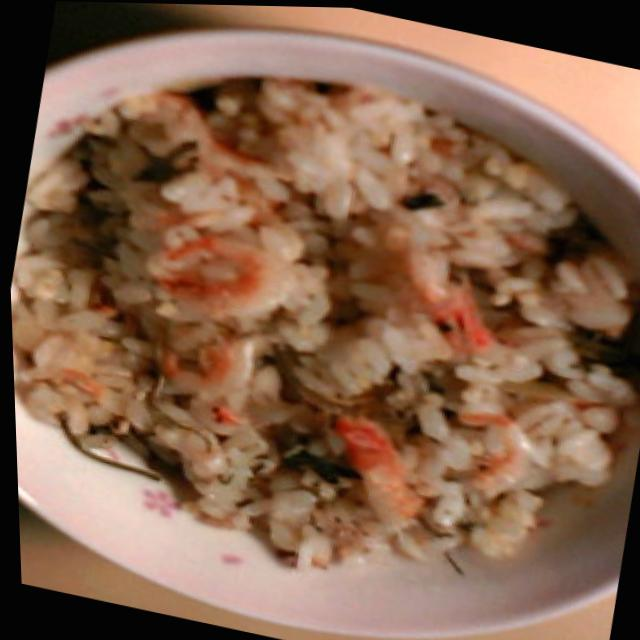米饭主食: (0, 6, 640, 637)
